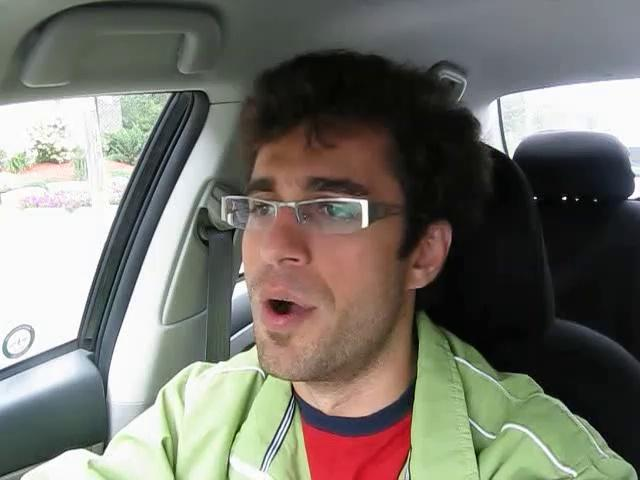open_eyeL: (235, 191, 287, 229)
open_eyeR: (300, 189, 378, 236)
yawn: (243, 284, 332, 336)
